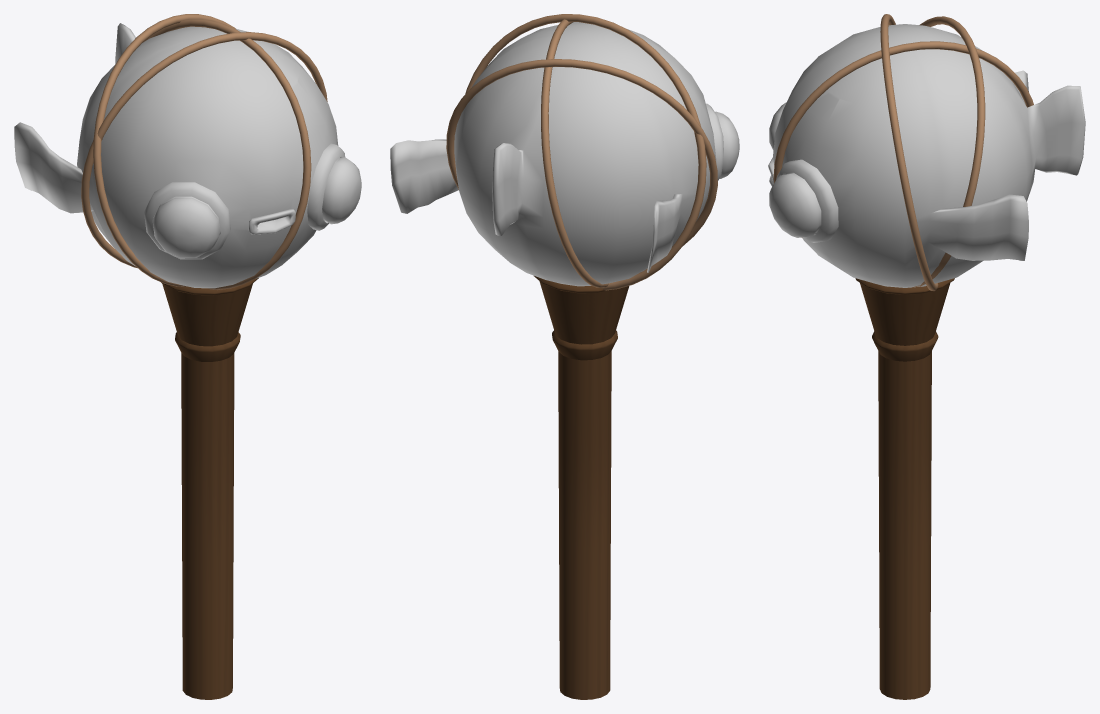
File: MorningPuff.fbx
3 views of the same model, side by side, from view 1: azimuth 30°, elevation 25°; view 2: azimuth 150°, elevation 25°; view 3: azimuth 270°, elevation 25° (orthographic).
Visible parts, largest first — view 1: Fish, wood, rope; view 2: Fish, wood, rope; view 3: Fish, wood, rope.
Boxes of the visible parts, x1=… form: Fish: x1=14, y1=23, x2=361, y2=288; wood: x1=161, y1=278, x2=258, y2=699; rope: x1=81, y1=14, x2=327, y2=289; Fish: x1=390, y1=22, x2=739, y2=286; wood: x1=534, y1=276, x2=629, y2=699; rope: x1=446, y1=14, x2=717, y2=290; Fish: x1=768, y1=24, x2=1085, y2=287; wood: x1=855, y1=278, x2=954, y2=699; rope: x1=773, y1=14, x2=1033, y2=290.
Size of the model in its own units: 32.75 by 78.03 by 33.93.
